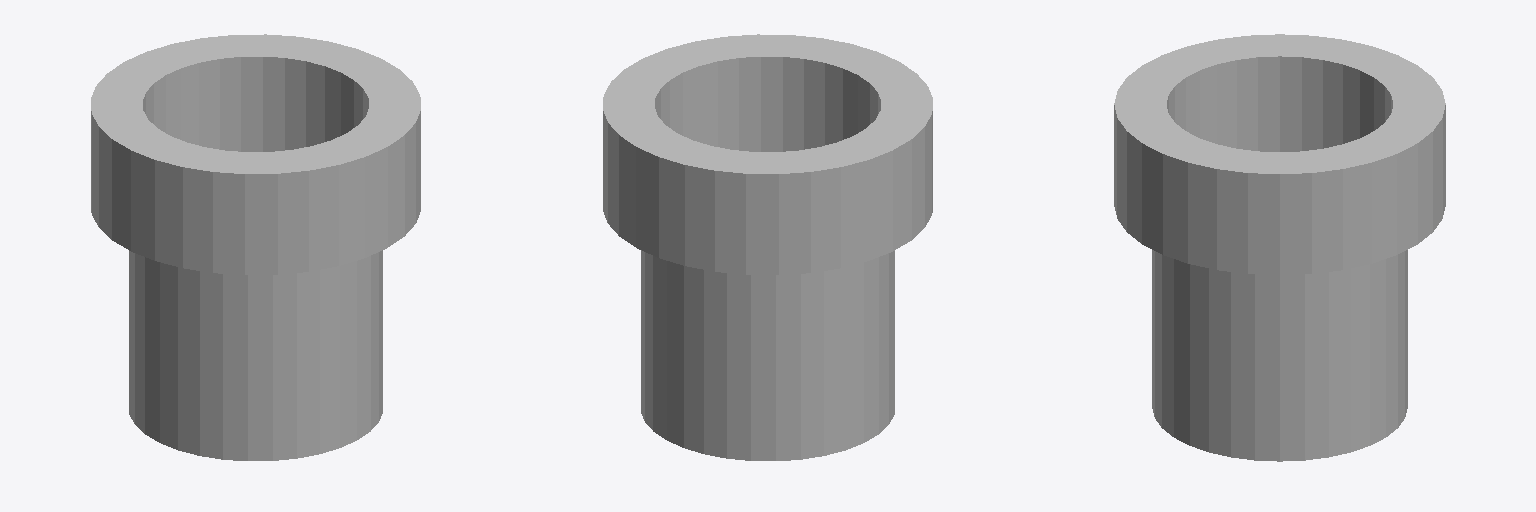
Rendered from tubega.obj.
3 views of the same model, side by side, from view 1: azimuth 30°, elevation 25°; view 2: azimuth 150°, elevation 25°; view 3: azimuth 270°, elevation 25° (orthographic).
Parts seen in each view (by area): view 1: Cilindro_Cilindro.002; view 2: Cilindro_Cilindro.002; view 3: Cilindro_Cilindro.002.
Boxes of the visible parts, box(x1,y1,x2,y2) form: Cilindro_Cilindro.002: box(91, 34, 420, 460); Cilindro_Cilindro.002: box(603, 34, 932, 460); Cilindro_Cilindro.002: box(1114, 34, 1445, 461).
Bounding box in the file's own units: 2 × 2.02 × 2.